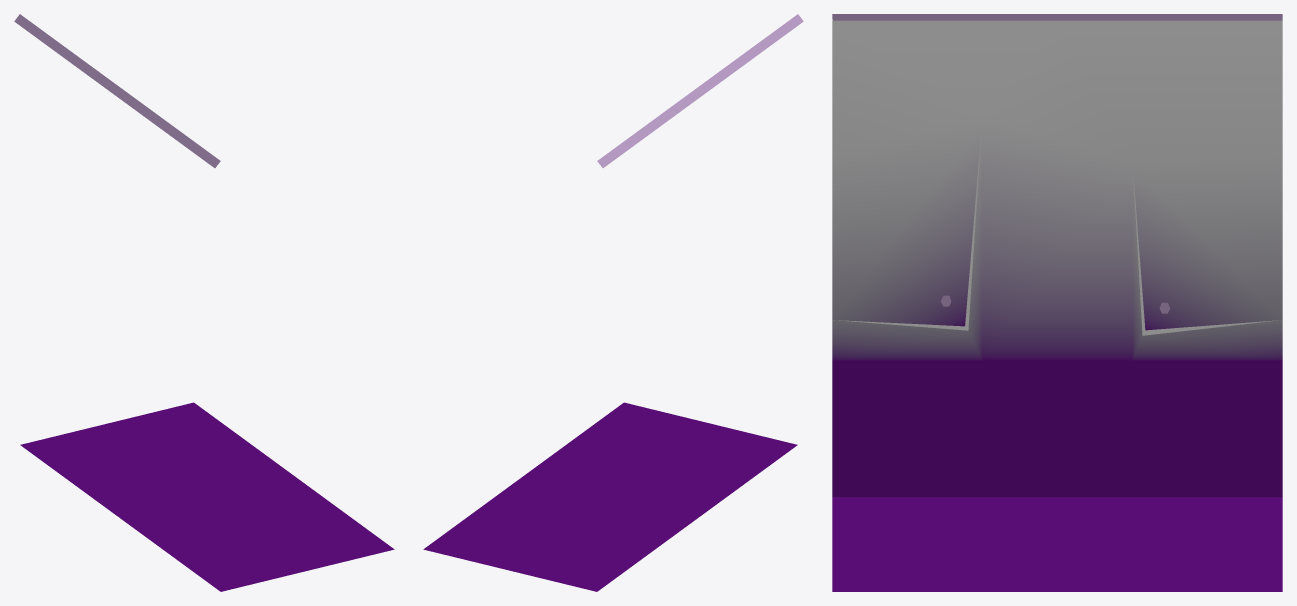
File: Lane-factory_gap_R.glb
3 renders of one model, left to right at view 1: azimuth 30°, elevation 25°; view 2: azimuth 150°, elevation 25°; view 3: azimuth 270°, elevation 25°, orthographic. The views are drawn at different scales.
Parts seen in each view (by area): view 1: Lane-factory_gap_R; view 2: Lane-factory_gap_R; view 3: Lane-factory_gap_R.
Part boxes in pixels (left/top/right/bottom): Lane-factory_gap_R: left=14, top=14, right=394, bottom=591; Lane-factory_gap_R: left=423, top=14, right=803, bottom=591; Lane-factory_gap_R: left=832, top=14, right=1282, bottom=591.
Bounding box in the file's own units: 3.1 × 7.1 × 6.
